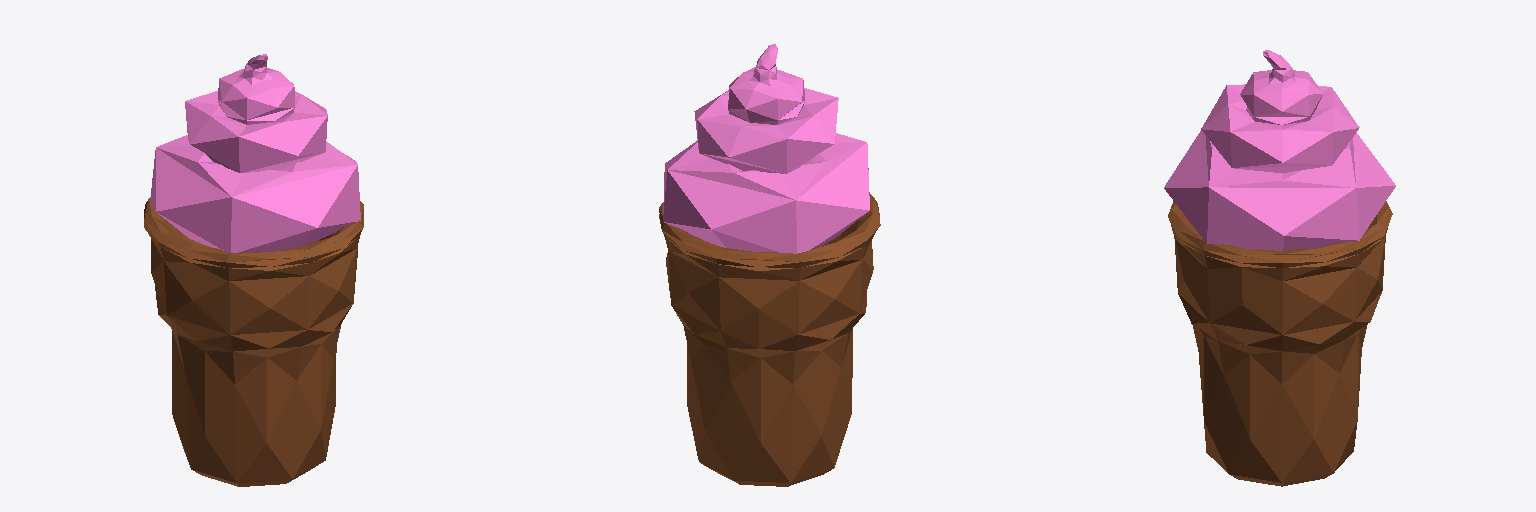
File: icrecream.obj
3 views of the same model, side by side, from view 1: azimuth 30°, elevation 25°; view 2: azimuth 150°, elevation 25°; view 3: azimuth 270°, elevation 25° (orthographic).
Visible parts, largest first — view 1: Cube.003; view 2: Cube.003; view 3: Cube.003.
Part boxes in pixels (x1,y1,x2,y2): Cube.003: (144,54,363,486); Cube.003: (659,44,880,486); Cube.003: (1164,50,1395,486).
Size of the model in its own units: 1.03 by 2 by 1.03.